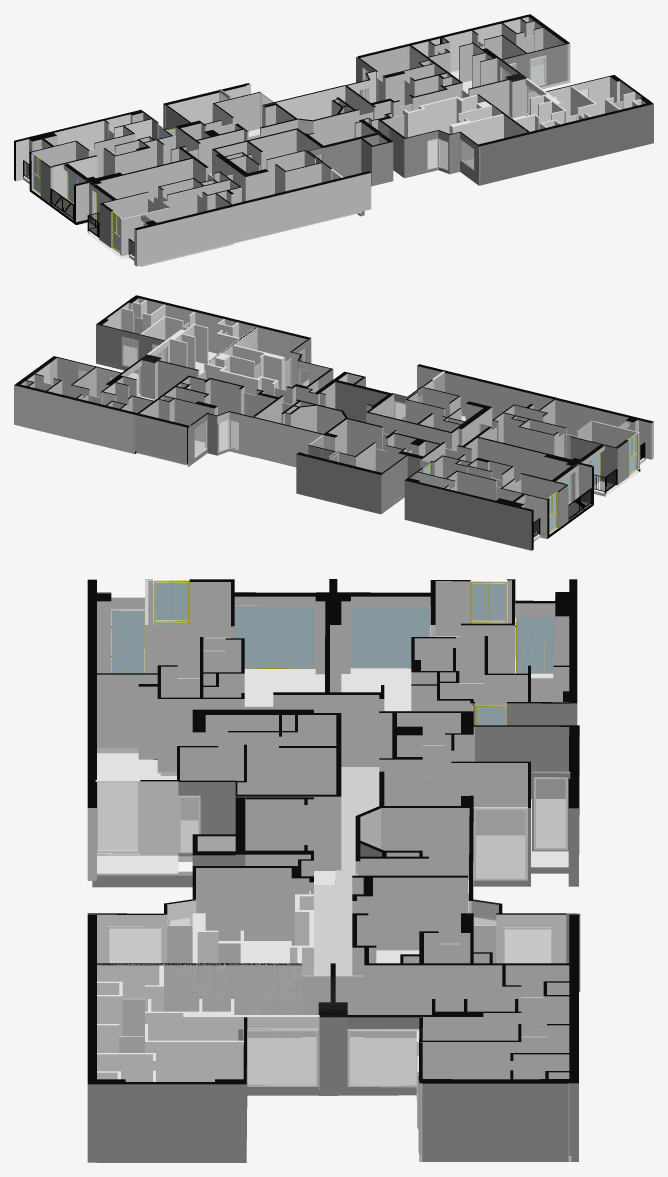
The model's file is Piso-4.glb.
The picture shows the model from 3 angles, top to bottom: view 1: azimuth 30°, elevation 25°; view 2: azimuth 150°, elevation 25°; view 3: azimuth 270°, elevation 25°; orthographic projection. The views are drawn at different scales.
Visible parts, largest first — view 1: C-Handle33.010, 0.002, piso-1, _G-Object.039 (Loose Mesh), _G-Object.068 (Loose Mesh), _G-Object.035 (Loose Mesh), Handle33, G-Object.001, G-Object.012; view 2: _G-Object.039 (Loose Mesh), _G-Object.035 (Loose Mesh), C-Handle33.010, G-Object.001, G-Object.012, 0.002, piso-1, _G-Object.068 (Loose Mesh), Handle33; view 3: piso-1, _G-Object.035 (Loose Mesh), C-Handle33.010, _G-Object.039 (Loose Mesh), 0.002, G-Object.001, G-Object.012, _G-Object.068 (Loose Mesh), Handle33.
Part boxes in pixels (bbox=[...]): C-Handle33.010: bbox=[69, 157, 241, 266]; 0.002: bbox=[212, 128, 371, 243]; piso-1: bbox=[468, 73, 653, 172]; _G-Object.039 (Loose Mesh): bbox=[14, 110, 200, 224]; _G-Object.068 (Loose Mesh): bbox=[378, 95, 532, 185]; _G-Object.035 (Loose Mesh): bbox=[409, 14, 570, 118]; Handle33: bbox=[210, 85, 393, 186]; G-Object.001: bbox=[163, 83, 297, 174]; G-Object.012: bbox=[345, 43, 462, 119]; _G-Object.039 (Loose Mesh): bbox=[404, 437, 593, 550]; _G-Object.035 (Loose Mesh): bbox=[14, 354, 197, 453]; C-Handle33.010: bbox=[475, 398, 653, 505]; G-Object.001: bbox=[296, 418, 445, 514]; G-Object.012: bbox=[135, 376, 283, 466]; 0.002: bbox=[366, 364, 556, 450]; piso-1: bbox=[96, 295, 259, 399]; _G-Object.068 (Loose Mesh): bbox=[204, 325, 333, 404]; Handle33: bbox=[253, 371, 391, 467]; piso-1: bbox=[87, 963, 347, 1162]; _G-Object.035 (Loose Mesh): bbox=[318, 963, 578, 1161]; C-Handle33.010: bbox=[87, 579, 350, 773]; _G-Object.039 (Loose Mesh): bbox=[329, 579, 577, 766]; 0.002: bbox=[87, 673, 341, 887]; G-Object.001: bbox=[379, 711, 579, 886]; G-Object.012: bbox=[352, 875, 580, 1038]; _G-Object.068 (Loose Mesh): bbox=[87, 866, 313, 1038]; Handle33: bbox=[192, 767, 473, 975].
Bounding box in the file's own units: 37.51 × 3.12 × 15.45.
Materials: 14 (2 with a texture image).
